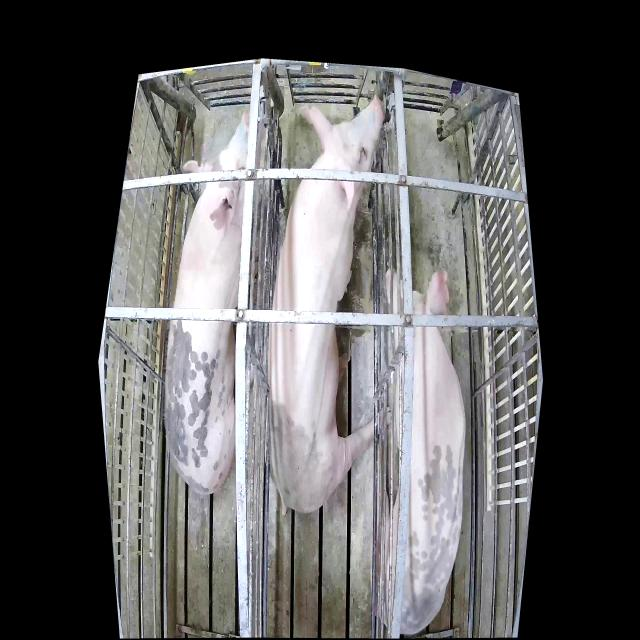pig: (267, 101, 384, 516), (165, 110, 257, 493), (377, 269, 466, 635)
